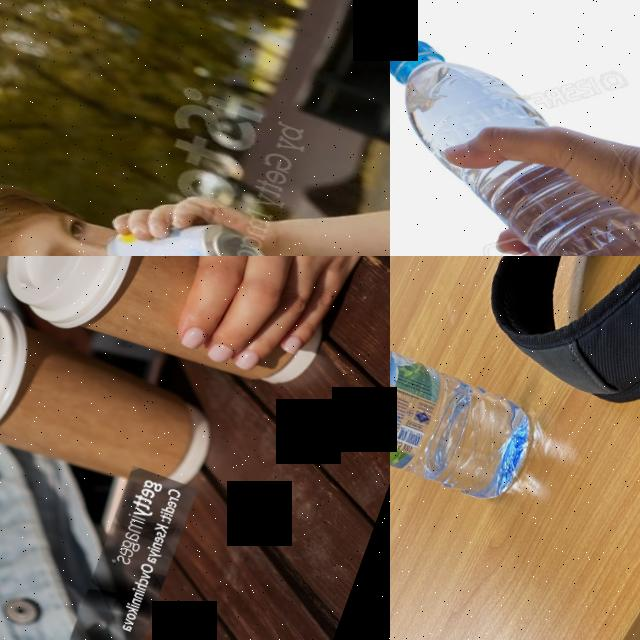bottle: (390, 24, 640, 256), (390, 312, 547, 514)
can: (94, 185, 278, 256)
cup: (0, 284, 232, 520), (0, 256, 344, 415)
